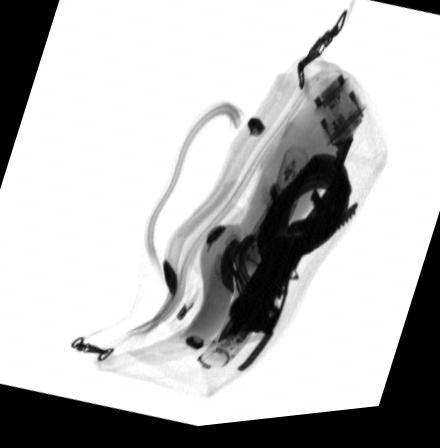Baton: (196, 150, 310, 373)
HandCuffs: (230, 157, 359, 342)
